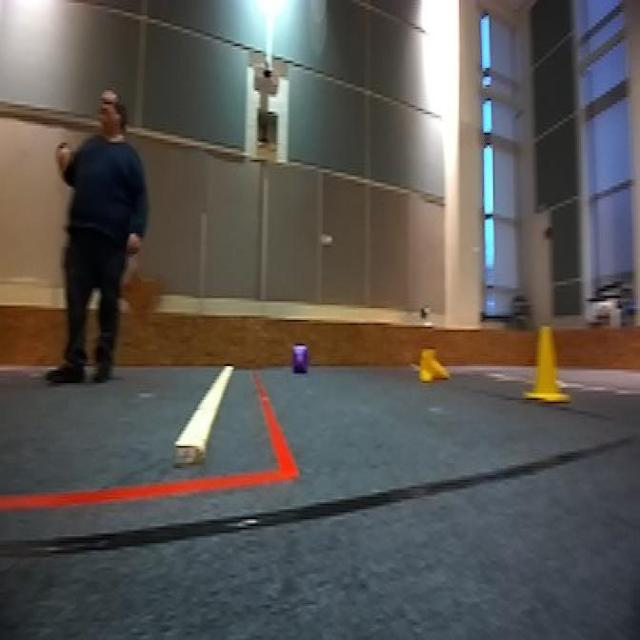frc_cone: (525, 322, 565, 408), (414, 346, 448, 386)
frc_cube: (288, 344, 310, 378)
